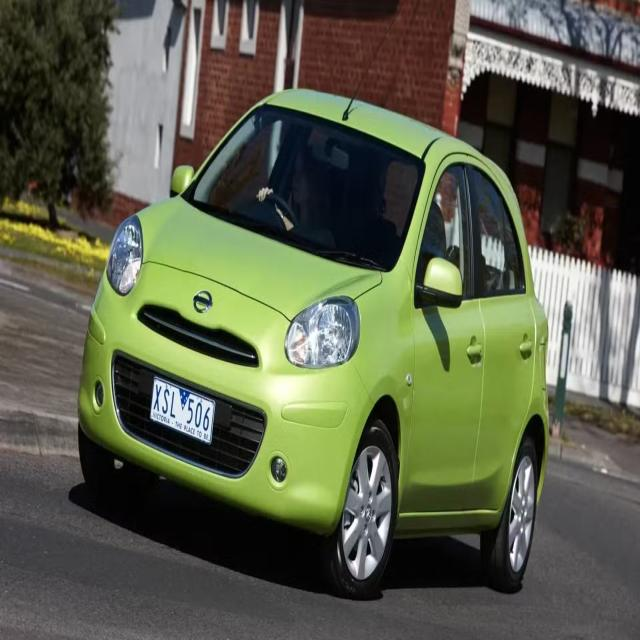green: (70, 76, 552, 583)
